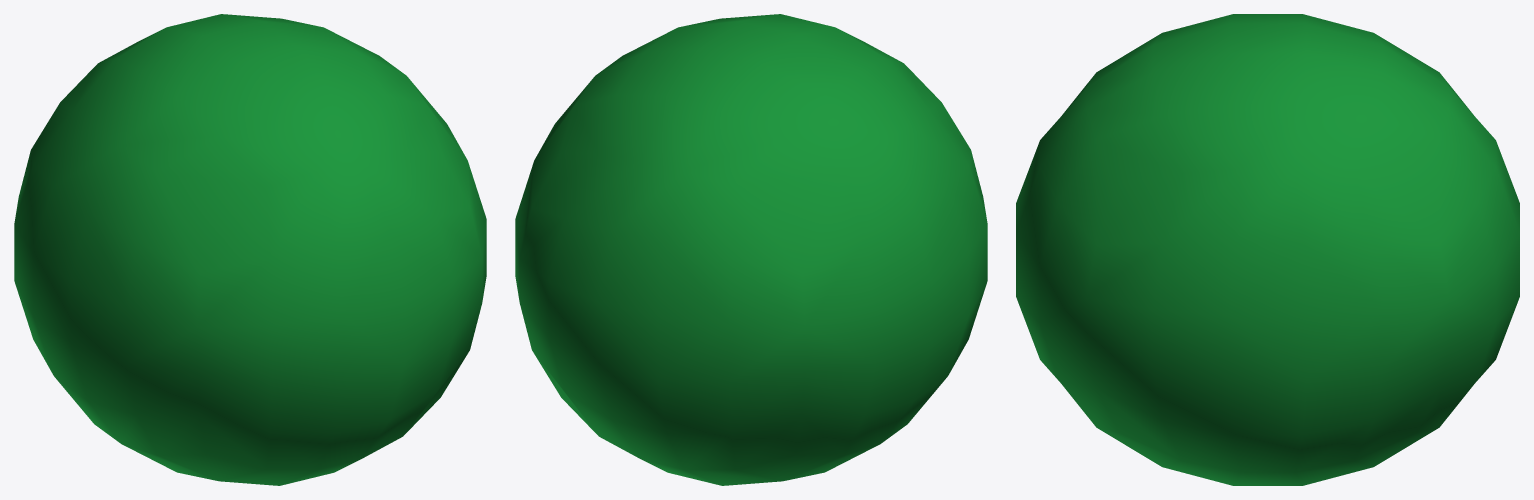
The model's file is Melon.glb.
The picture shows the model from 3 angles, left to right: view 1: azimuth 30°, elevation 25°; view 2: azimuth 150°, elevation 25°; view 3: azimuth 270°, elevation 25°; orthographic projection.
Visible parts, largest first — view 1: Melon; view 2: Melon; view 3: Melon.
Boxes of the visible parts, <box> form: Melon: <box>14,14,486,485</box>; Melon: <box>515,14,987,485</box>; Melon: <box>1016,14,1519,485</box>.
Size of the model in its own units: 0.3391 by 0.3391 by 0.3666.
